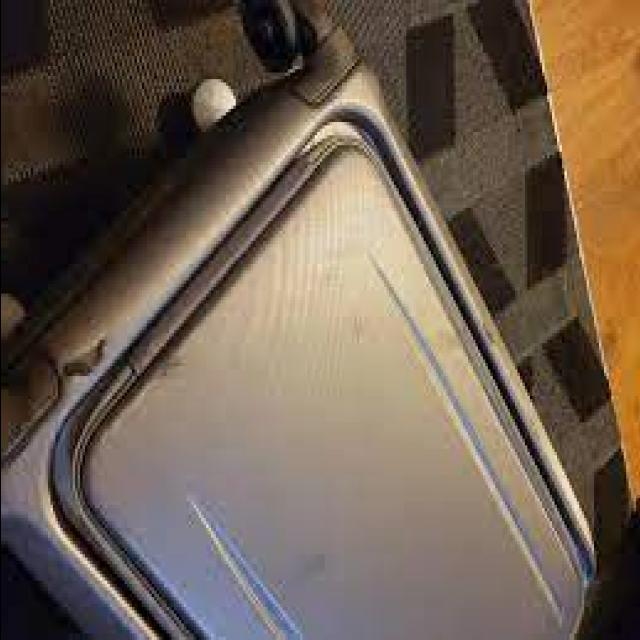Damage-bag: (63, 339, 105, 377)
